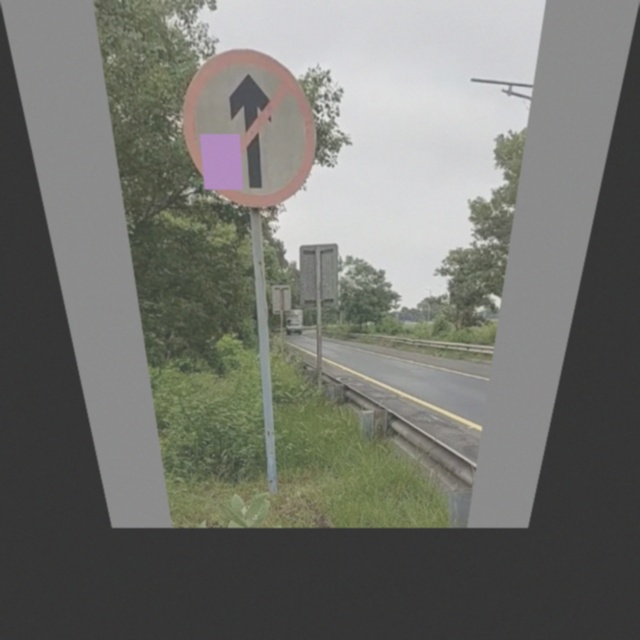No_Entry: (174, 53, 319, 205)
